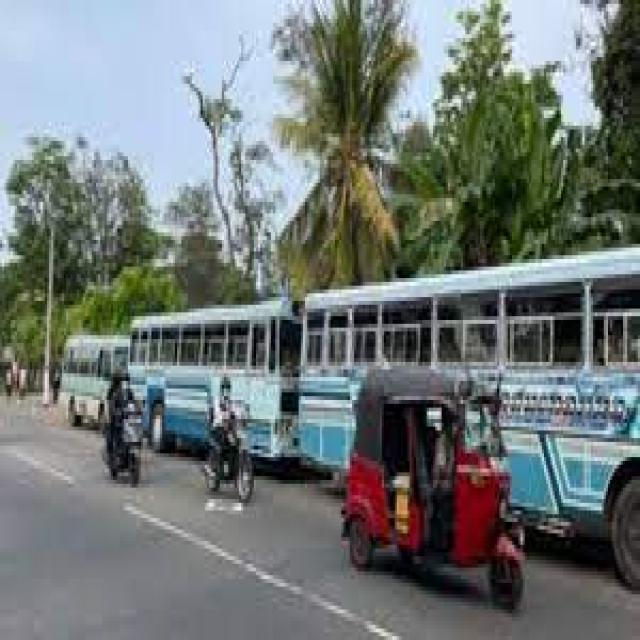bus: (299, 248, 638, 587), (130, 301, 299, 461), (60, 335, 128, 427)
motorcycle: (205, 411, 252, 503), (105, 404, 141, 488)
person: (213, 377, 235, 442), (107, 373, 130, 430)
three wheeler: (341, 370, 523, 610)
